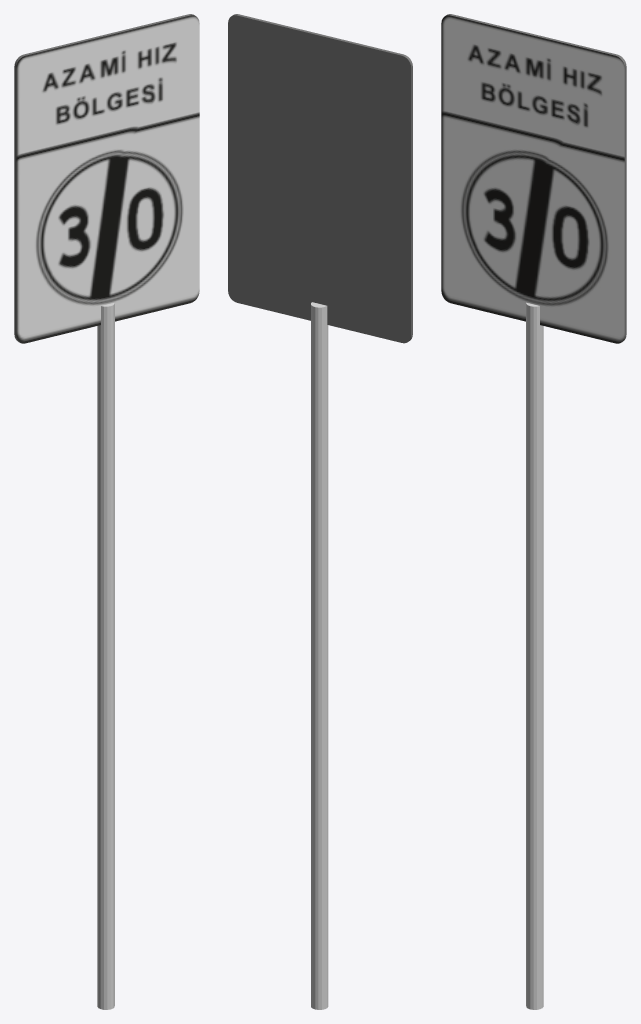
Rendered from 30_azami_hiz_bolgesi.fbx.
The picture shows the model from 3 angles, left to right: view 1: azimuth 30°, elevation 25°; view 2: azimuth 150°, elevation 25°; view 3: azimuth 330°, elevation 25°; orthographic projection.
Visible parts, largest first — view 1: 30_azami_hiz_bolgesi; view 2: 30_azami_hiz_bolgesi; view 3: 30_azami_hiz_bolgesi.
Part boxes in pixels (left/top/right/bottom): 30_azami_hiz_bolgesi: left=14, top=14, right=199, bottom=1009; 30_azami_hiz_bolgesi: left=228, top=14, right=412, bottom=1009; 30_azami_hiz_bolgesi: left=441, top=14, right=626, bottom=1009.
Bounding box in the file's own units: 60 × 304 × 5.
3 materials, 1 textured.
